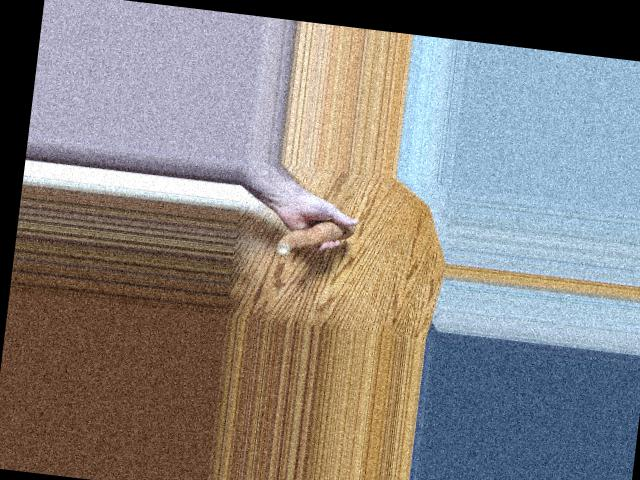sweet_potato: (273, 211, 354, 261)
